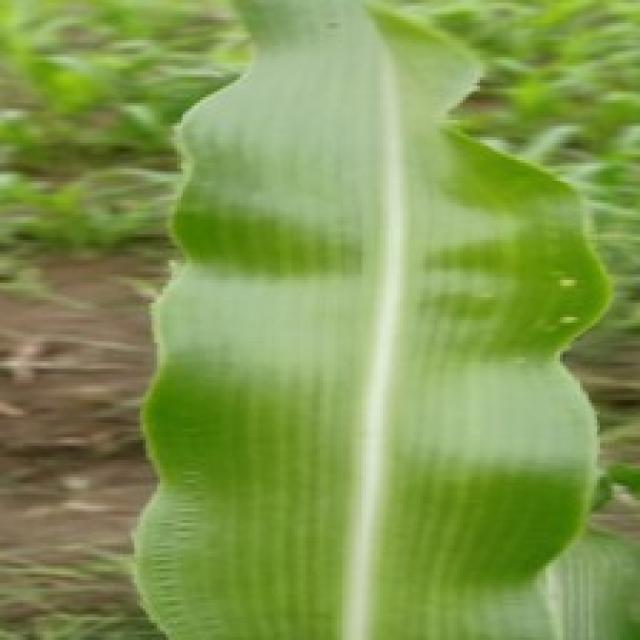Corn: (126, 0, 614, 637)
